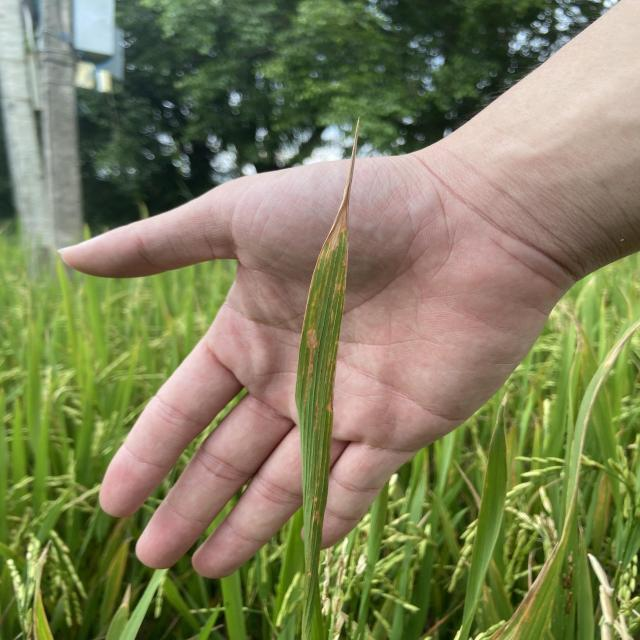Dom soc vi khuan: (303, 323, 319, 413), (321, 260, 332, 299), (324, 347, 332, 385), (313, 403, 319, 429), (311, 290, 318, 307), (334, 283, 341, 296), (330, 310, 334, 323)
